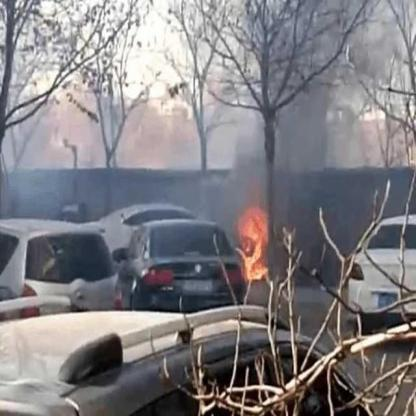fire: (242, 210, 268, 280)
